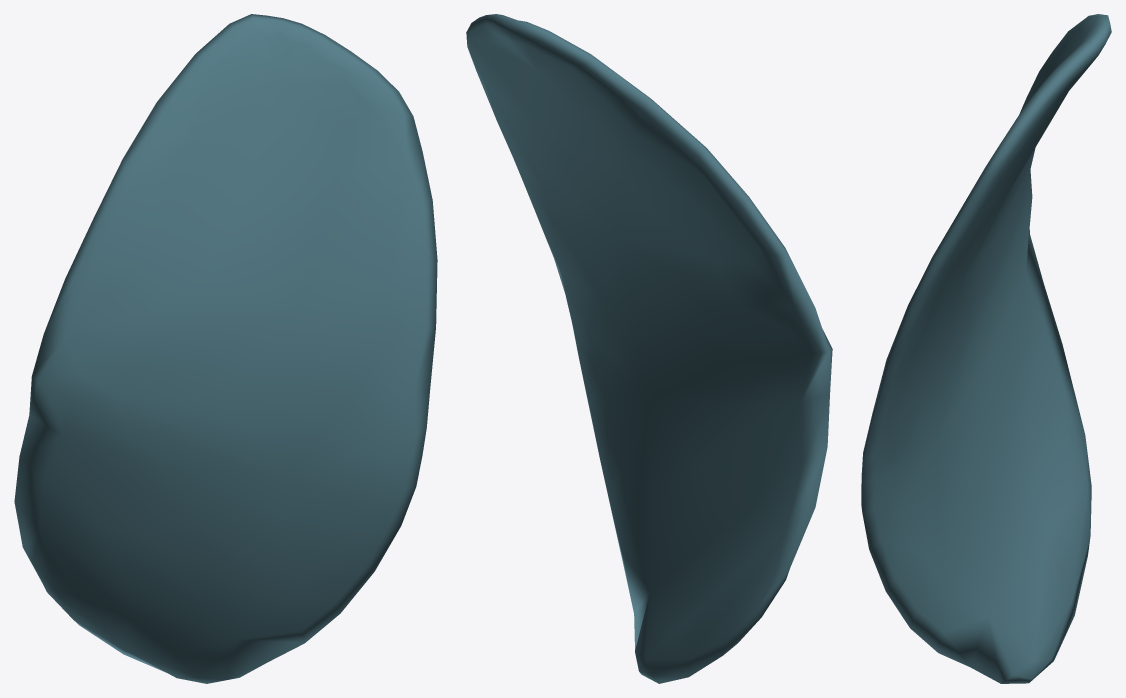
File: Subscapularis_muscle-Humeral_insertion.l_Generated_Mesh_From_X3.glb
3 renders of one model, left to right at view 1: azimuth 30°, elevation 25°; view 2: azimuth 150°, elevation 25°; view 3: azimuth 270°, elevation 25°, orthographic. The views are drawn at different scales.
Visible parts, largest first — view 1: Subscapularis_muscle-Humeral_insertion.l_Generated_Mesh_From; view 2: Subscapularis_muscle-Humeral_insertion.l_Generated_Mesh_From; view 3: Subscapularis_muscle-Humeral_insertion.l_Generated_Mesh_From.
Part boxes in pixels (<box>): Subscapularis_muscle-Humeral_insertion.l_Generated_Mesh_From: <box>14,14,437,683</box>; Subscapularis_muscle-Humeral_insertion.l_Generated_Mesh_From: <box>466,14,832,683</box>; Subscapularis_muscle-Humeral_insertion.l_Generated_Mesh_From: <box>861,14,1111,683</box>.
Size of the model in its own units: 0.0105 by 0.0169 by 0.00546.
